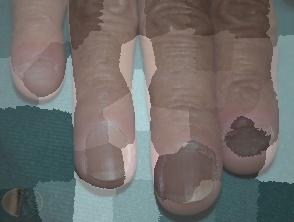Nail_psoriasis: (172, 133, 224, 208), (12, 46, 61, 94), (220, 123, 276, 160)
